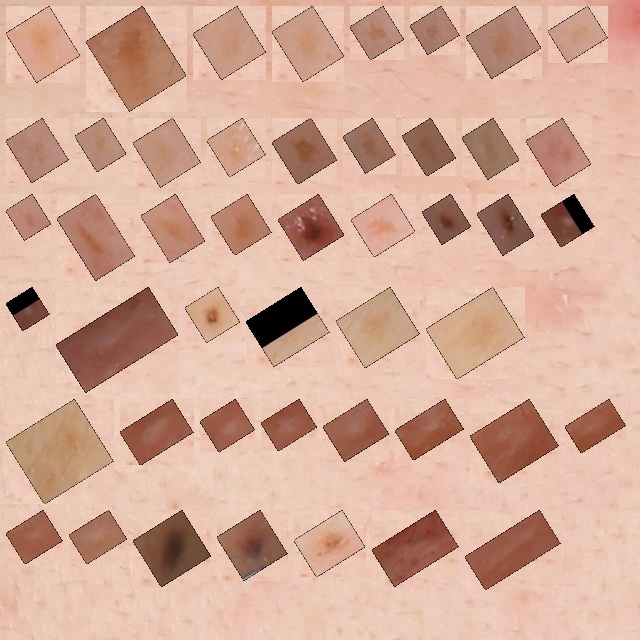hypertrophic_scar: (67, 298, 167, 381), (476, 521, 549, 579), (481, 410, 547, 472), (383, 521, 447, 575), (131, 410, 182, 454), (406, 410, 453, 449), (334, 410, 378, 450), (576, 410, 615, 442), (80, 521, 116, 553), (17, 521, 51, 553), (211, 410, 244, 441), (272, 410, 306, 440)
melasma: (17, 410, 102, 493), (97, 17, 175, 100), (437, 298, 513, 368), (347, 298, 408, 357), (68, 205, 124, 269), (257, 298, 318, 355), (17, 17, 69, 71), (283, 17, 333, 70), (477, 17, 530, 67), (204, 17, 255, 68), (144, 129, 189, 176), (537, 129, 580, 176), (152, 205, 194, 251), (283, 129, 326, 173), (362, 205, 404, 246), (17, 129, 57, 171), (222, 205, 260, 244), (473, 129, 508, 168), (218, 129, 254, 166), (559, 17, 596, 51), (413, 129, 445, 165), (361, 17, 393, 49), (354, 129, 384, 162), (86, 129, 115, 161), (421, 17, 448, 43), (17, 205, 40, 229)
nevus: (144, 521, 200, 576), (228, 521, 276, 569), (305, 521, 354, 566), (289, 205, 333, 249), (488, 205, 523, 244), (196, 298, 229, 331), (433, 205, 460, 233)
pustule: (552, 205, 583, 236), (17, 298, 38, 320)
